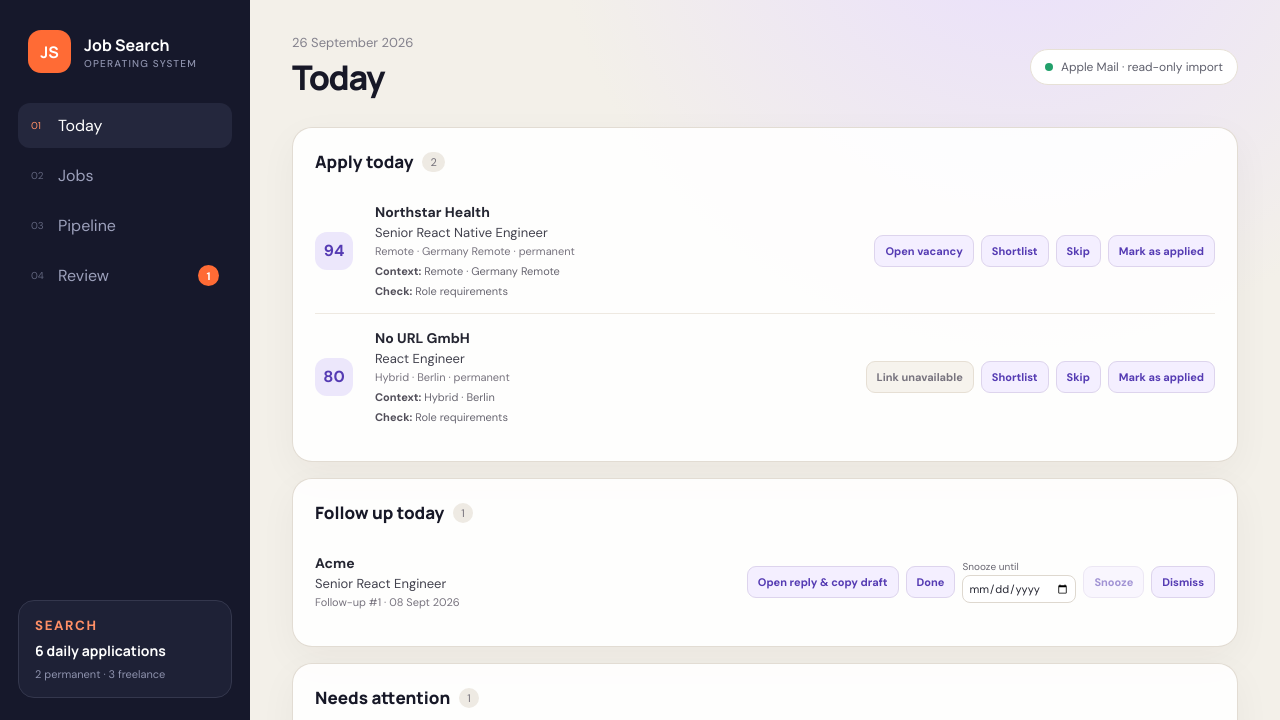
Test: App › stale successful detail refresh keeps saved fields and retries only the read
Check: the heading "Today" is shown, box left=292, top=54, right=384, bottom=100
Step 1. Click the button "03 Pipeline" → (125, 226), box left=18, top=203, right=232, bottom=248
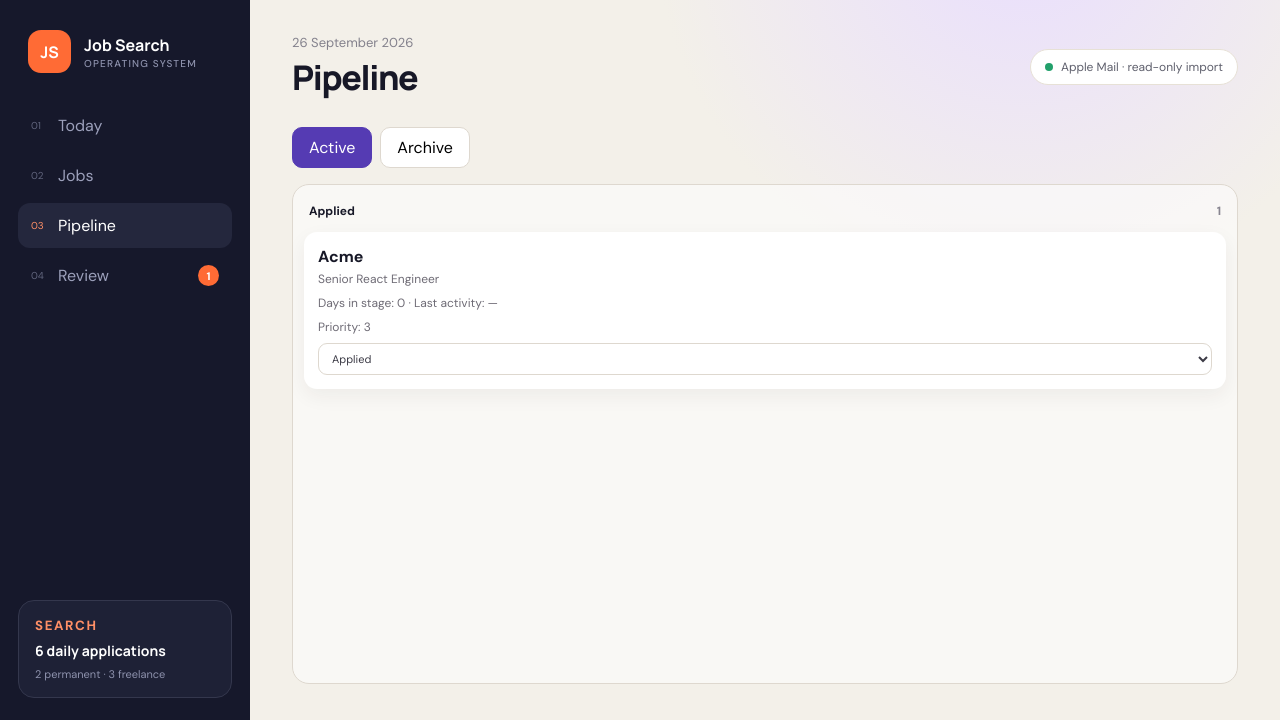
Step 2. Click the button with aria-label "Details for Acme — Senior React Engineer" → (341, 256), box left=318, top=246, right=1212, bottom=287
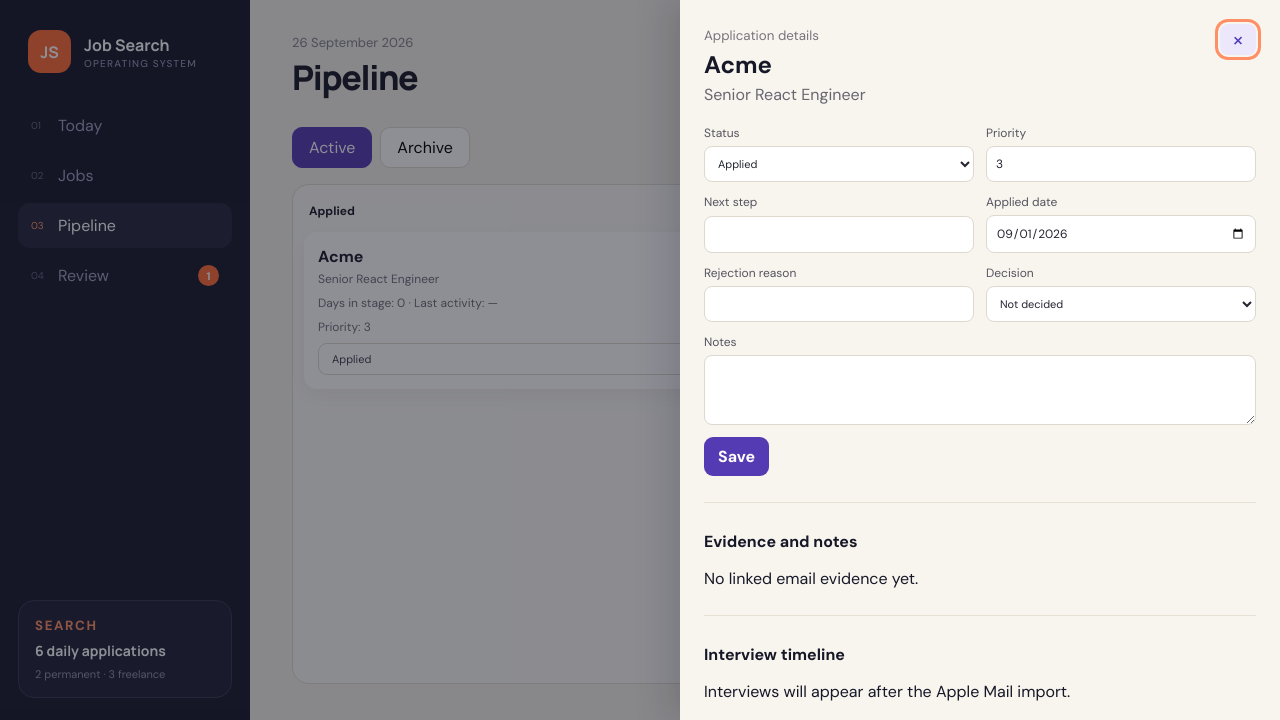
Check: the field labelled "Next step" is shown
Step 3. Type "Call recruiter" into the field labelled "Next step" → (839, 234), box left=704, top=216, right=974, bottom=253
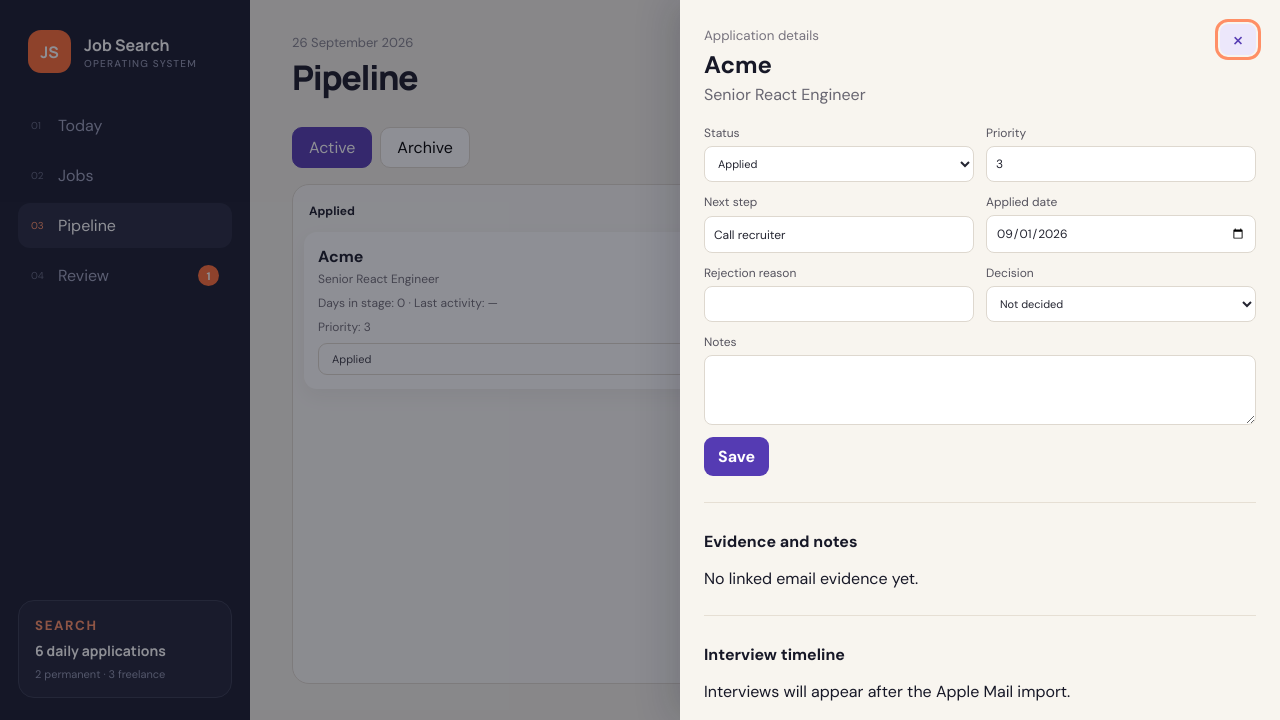
Step 4. Click the button "Save" → (737, 456), box left=704, top=437, right=769, bottom=476
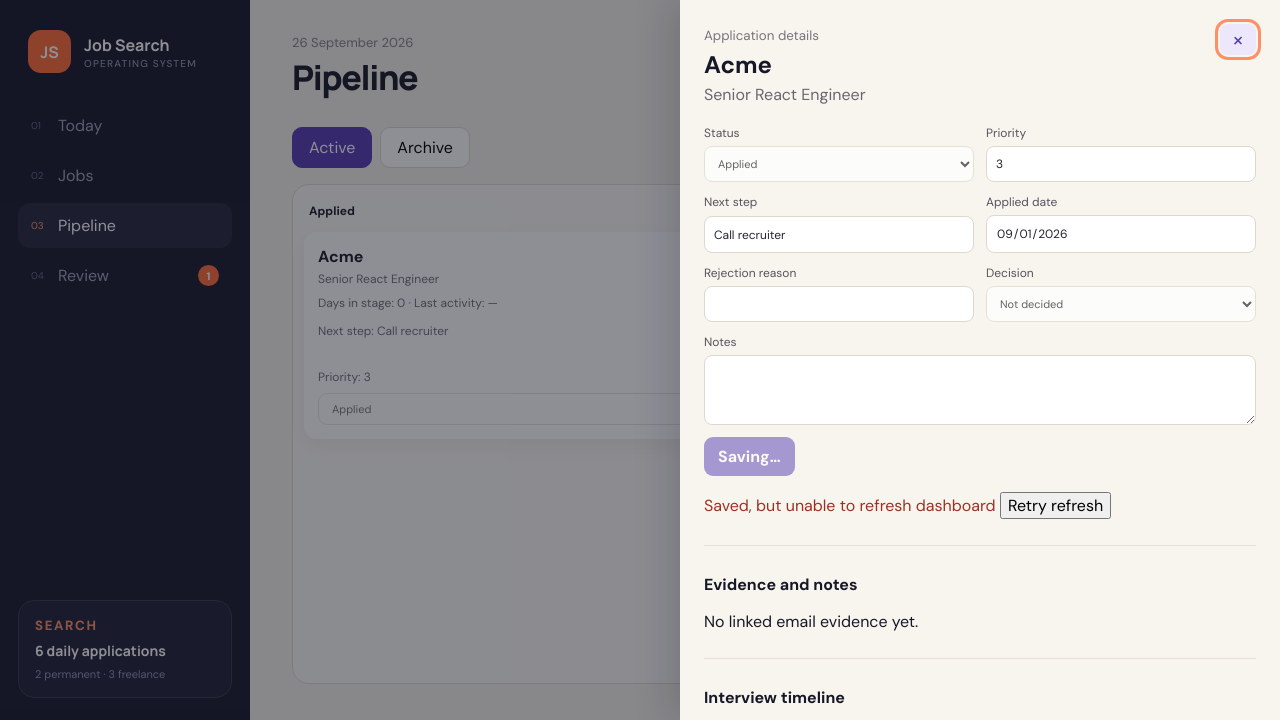
Check: the message shows "Saved, but unable to refresh dashboard", box left=704, top=495, right=996, bottom=516
Check: the element named "Active applications" shows "Next step: Call recruiter", box left=292, top=184, right=1238, bottom=699
Step 5. Click the button "Retry refresh" → (1056, 506), box left=1000, top=492, right=1111, bottom=519
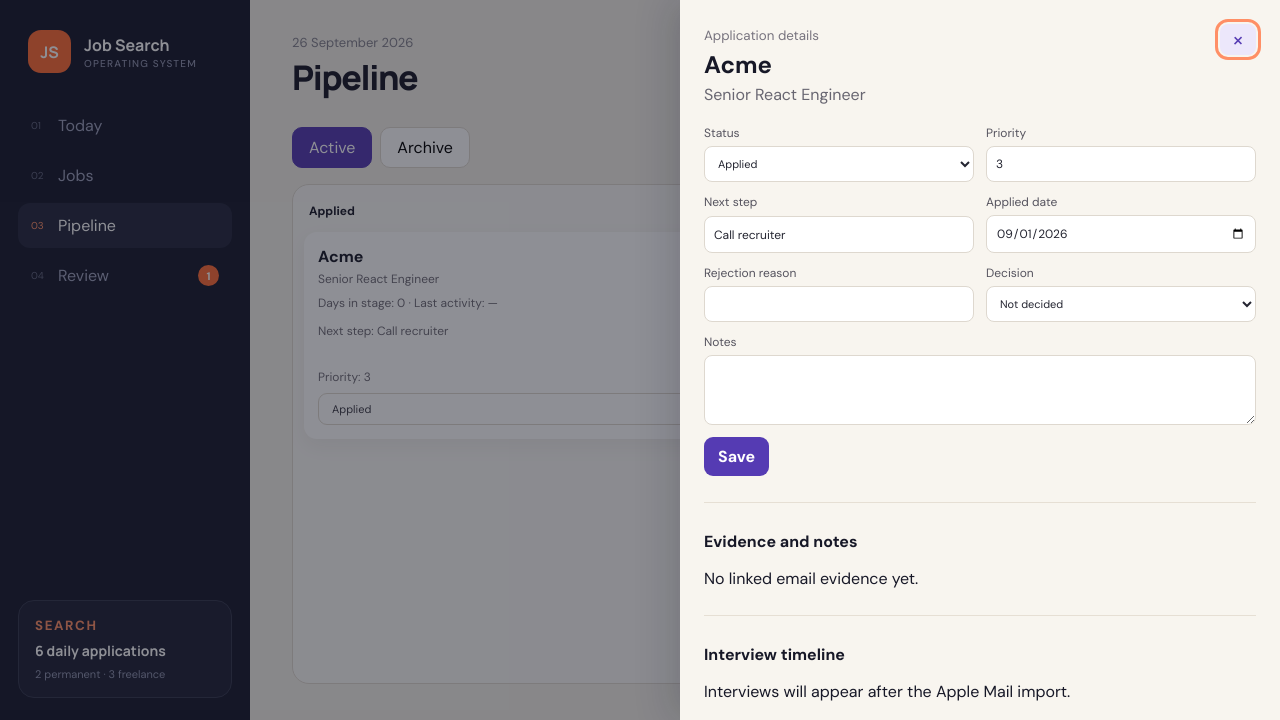
Check: the message "Saved, but unable to refresh dashboard Retry refresh" is gone
